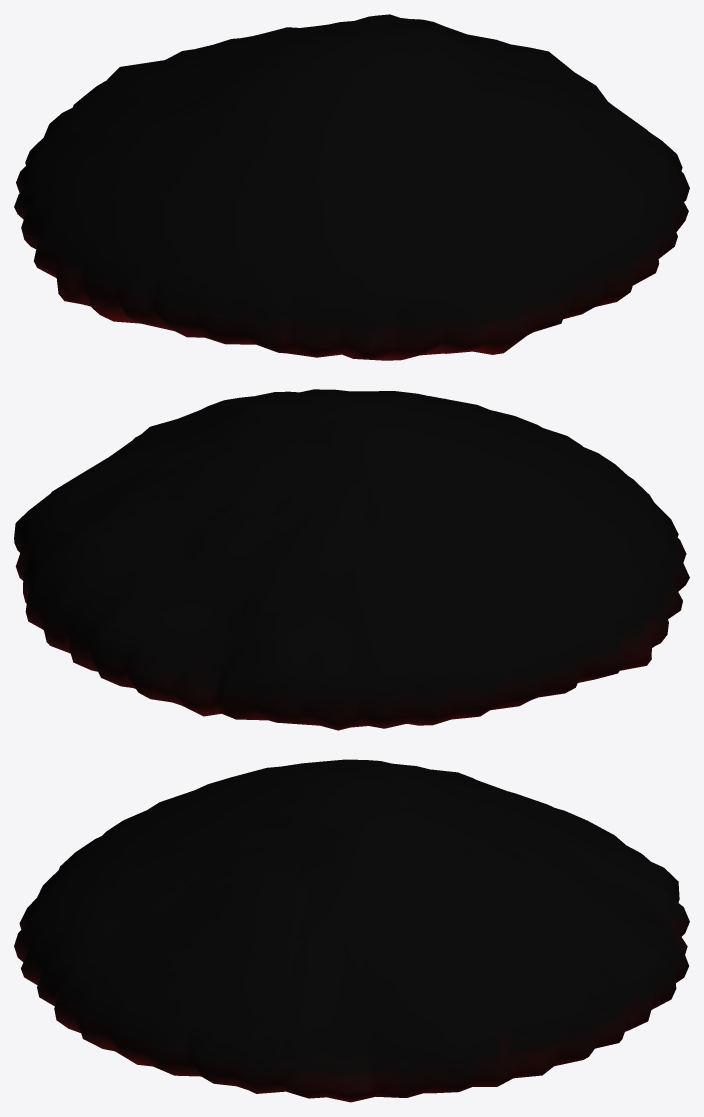
File: SM_Mine_SpoilHeap.fbx
3 views of the same model, one above another, from view 1: azimuth 30°, elevation 25°; view 2: azimuth 150°, elevation 25°; view 3: azimuth 270°, elevation 25° (orthographic).
Parts seen in each view (by area): view 1: SM_Mine_SpoilHeap; view 2: SM_Mine_SpoilHeap; view 3: SM_Mine_SpoilHeap.
Boxes of the visible parts, bbox=[...] form: SM_Mine_SpoilHeap: bbox=[14, 14, 689, 360]; SM_Mine_SpoilHeap: bbox=[14, 389, 689, 730]; SM_Mine_SpoilHeap: bbox=[14, 759, 689, 1102].
Bounding box in the file's own units: 2.69 × 1.01 × 2.7.
